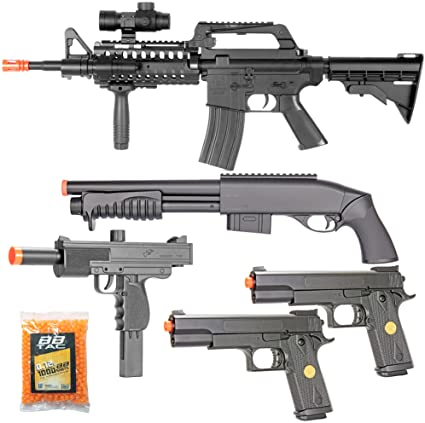Arma Falsa: (2, 2, 425, 170), (53, 176, 408, 262), (9, 230, 191, 378), (164, 305, 349, 421), (239, 263, 424, 379)
